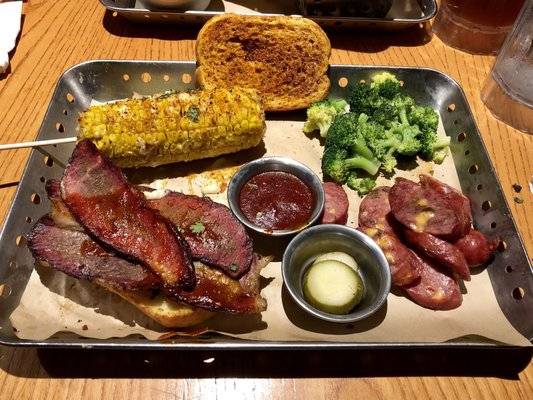curry: (308, 71, 448, 195)
pizza: (433, 0, 528, 56), (492, 0, 533, 109)
sandwich: (0, 1, 27, 84)
sushi: (281, 224, 392, 326), (227, 156, 326, 238)
